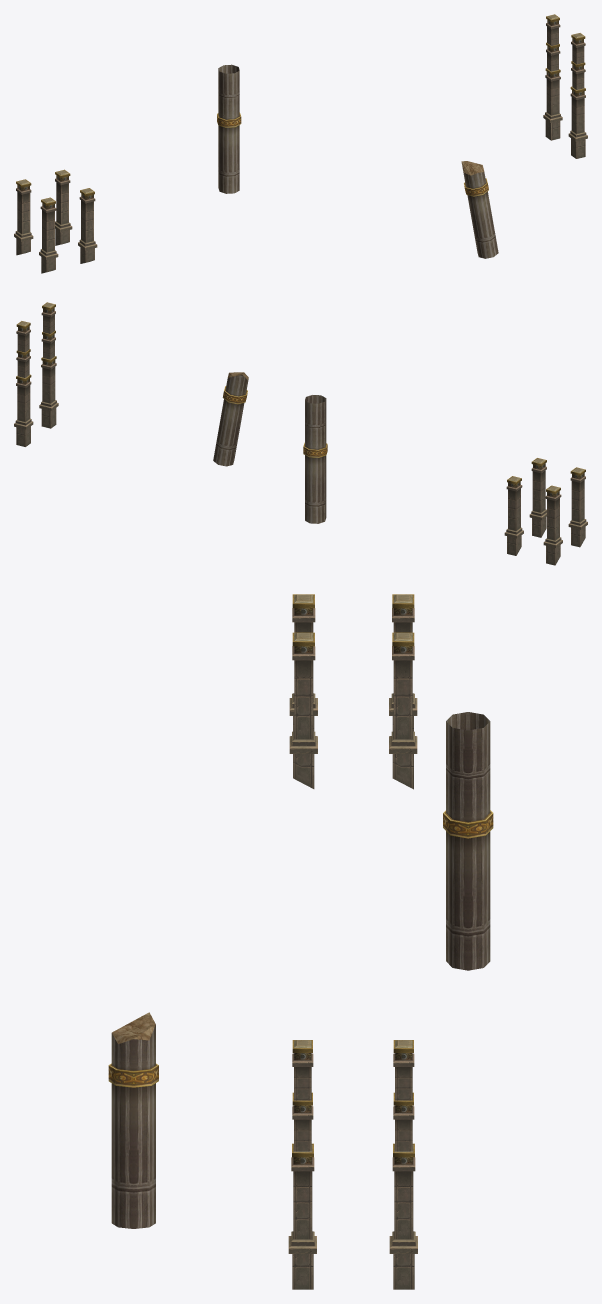
Rendered from zhuzi_da.FBX.
3 views of the same model, one above another, from view 1: azimuth 30°, elevation 25°; view 2: azimuth 150°, elevation 25°; view 3: azimuth 270°, elevation 25° (orthographic). The views are drawn at different scales.
Parts seen in each view (by area): view 1: midzhuzi, gaozhuzi, dazhuzi, pozhuzi; view 2: midzhuzi, gaozhuzi, dazhuzi, pozhuzi; view 3: dazhuzi, gaozhuzi, pozhuzi, midzhuzi.
Boxes of the visible parts, <box> form: midzhuzi: <box>14,169,97,273</box>; gaozhuzi: <box>543,14,587,158</box>; dazhuzi: <box>217,64,241,193</box>; pozhuzi: <box>461,161,498,258</box>; midzhuzi: <box>504,458,587,565</box>; gaozhuzi: <box>14,302,58,446</box>; dazhuzi: <box>303,395,327,523</box>; pozhuzi: <box>213,372,248,466</box>; dazhuzi: <box>443,712,493,970</box>; gaozhuzi: <box>288,1040,417,1289</box>; pozhuzi: <box>108,1012,158,1228</box>; midzhuzi: <box>289,594,417,789</box>.
Bounding box in the file's own units: 4338 × 1279 × 1334.
